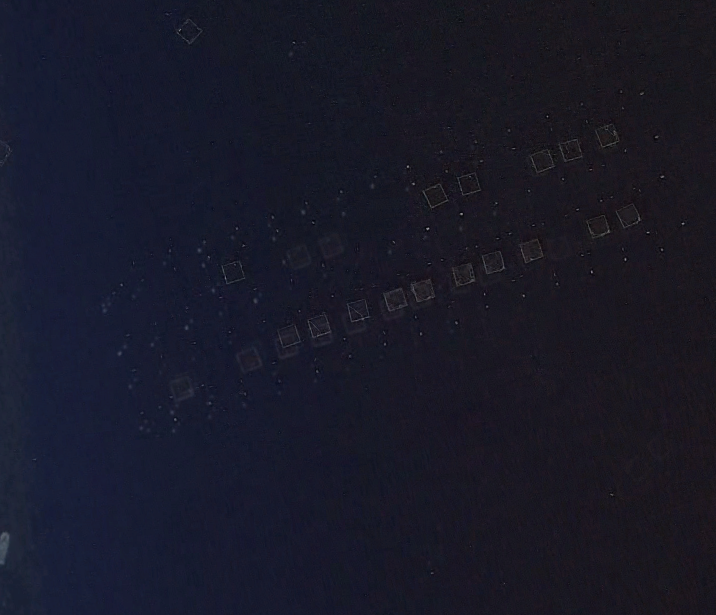square: (212, 250, 253, 291), (227, 339, 267, 380), (418, 174, 457, 216), (513, 229, 554, 268), (311, 222, 350, 263), (280, 235, 320, 274), (168, 11, 209, 48), (445, 255, 486, 292), (474, 241, 513, 279), (163, 364, 199, 405), (451, 162, 487, 201), (581, 206, 617, 243), (551, 131, 589, 165), (526, 140, 561, 176), (590, 115, 625, 150), (613, 199, 647, 231), (305, 310, 338, 340), (409, 273, 439, 303), (382, 283, 410, 314), (343, 295, 372, 322), (276, 321, 302, 348)
